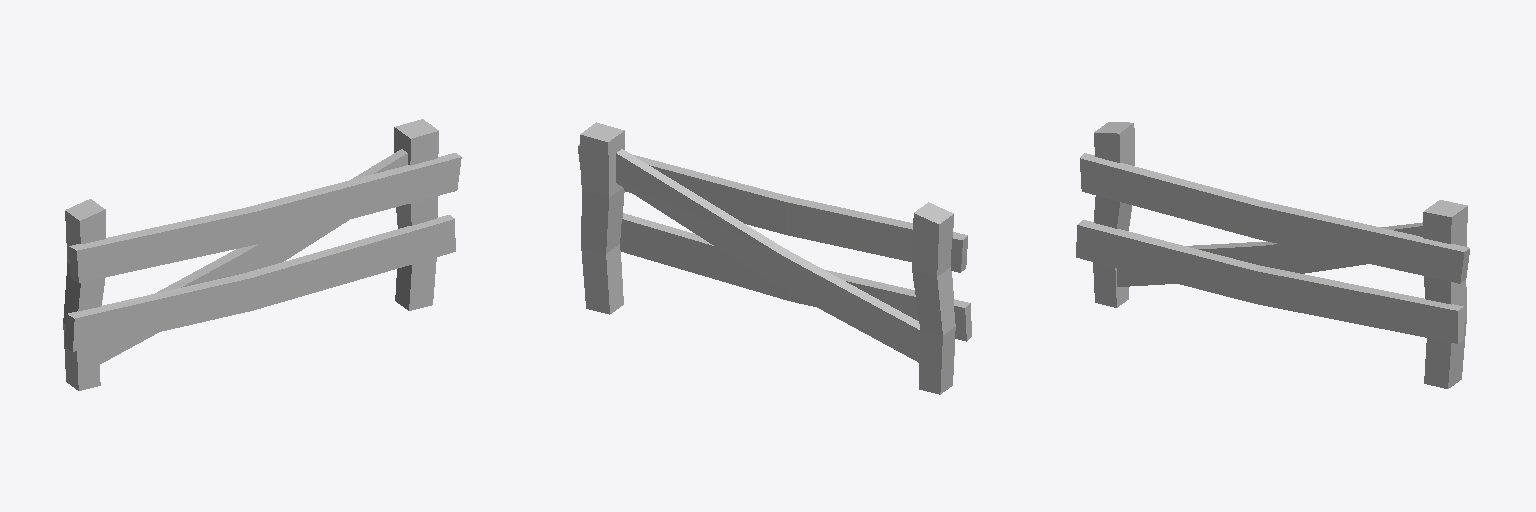
Rendered from Fence2.obj.
3 renders of one model, left to right at view 1: azimuth 30°, elevation 25°; view 2: azimuth 150°, elevation 25°; view 3: azimuth 330°, elevation 25°, orthographic.
Parts seen in each view (by area): view 1: Plane; view 2: Plane; view 3: Plane.
Part boxes in pixels (x1,y1,x2,y2): Plane: (63,119,461,390); Plane: (578,122,971,394); Plane: (1076,122,1469,388).
Size of the model in its own units: 2.38 by 1.03 by 0.2242.